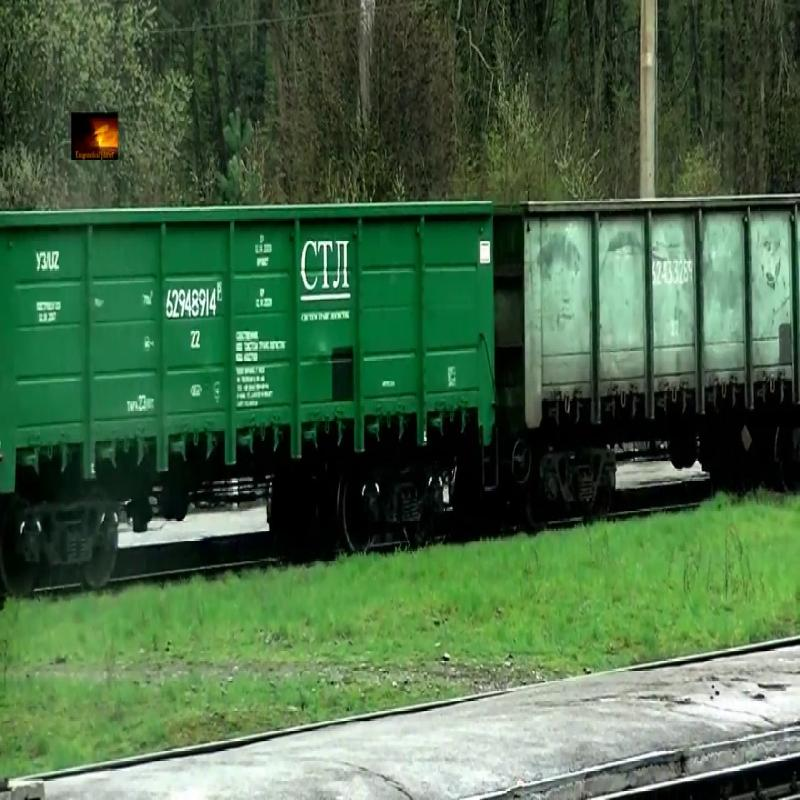train: (1, 197, 498, 499), (498, 188, 800, 447)
